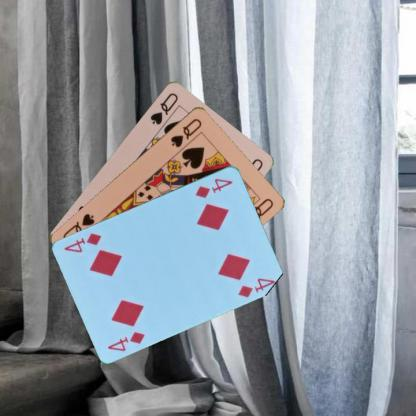4d: (105, 328, 146, 353), (193, 175, 234, 199)
Qs: (167, 115, 202, 148), (147, 90, 179, 126)
